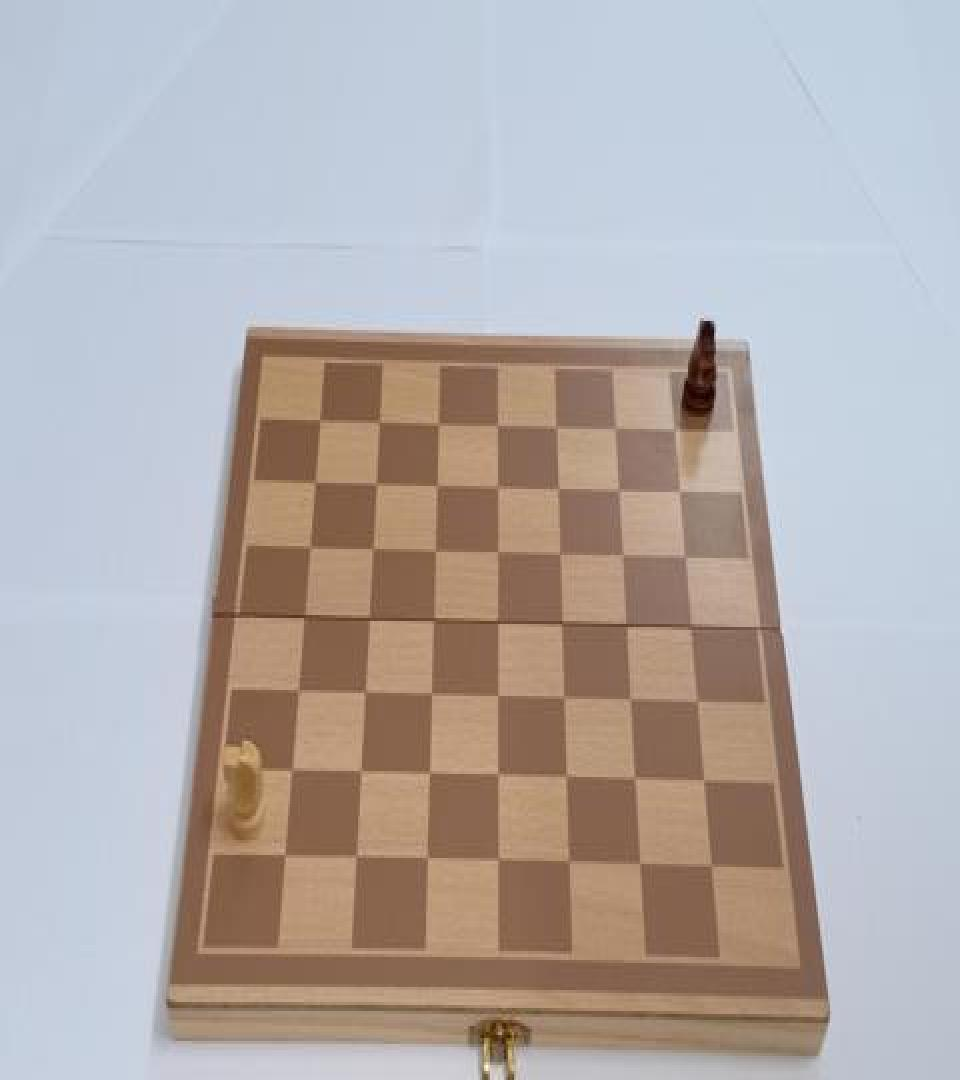xcorner: (306, 472, 324, 500), (284, 760, 302, 788), (369, 412, 387, 440), (547, 478, 565, 506), (608, 478, 626, 506), (663, 418, 681, 446), (311, 411, 329, 438), (301, 538, 319, 565), (290, 683, 308, 710), (277, 844, 295, 871), (366, 474, 384, 501), (363, 540, 381, 567), (360, 609, 378, 636), (356, 684, 374, 711), (352, 762, 370, 789), (428, 414, 446, 441), (424, 610, 442, 637), (419, 849, 437, 876), (486, 414, 504, 441), (487, 477, 505, 504), (487, 543, 505, 570), (488, 612, 506, 639), (488, 687, 506, 714), (489, 766, 507, 793), (490, 851, 508, 878), (545, 415, 563, 442), (550, 543, 568, 570), (555, 689, 573, 716), (558, 768, 576, 795), (561, 852, 579, 879), (604, 417, 622, 444), (612, 545, 630, 572), (617, 615, 635, 642), (622, 690, 640, 717), (632, 855, 650, 882), (669, 480, 687, 507), (675, 546, 693, 573), (682, 617, 700, 644), (696, 771, 714, 798), (704, 857, 722, 884), (296, 608, 314, 634), (348, 848, 366, 874), (426, 476, 444, 502), (425, 542, 443, 568), (422, 686, 440, 712), (420, 764, 438, 790), (552, 614, 570, 640), (627, 770, 645, 796), (688, 692, 706, 718)
